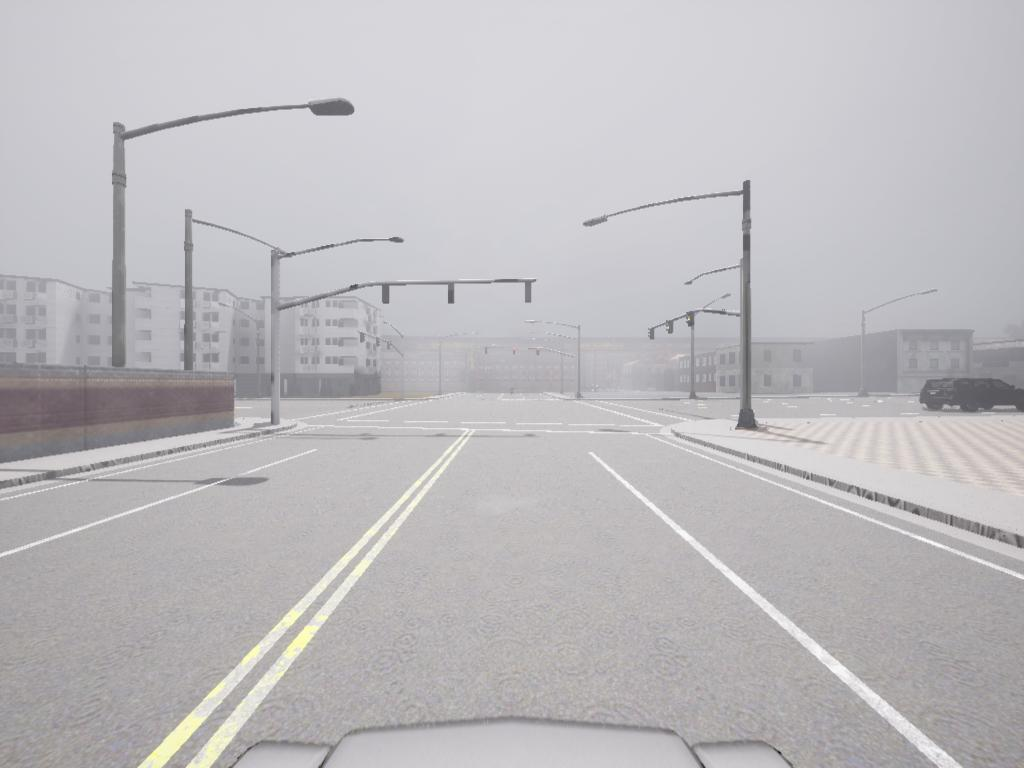traffic_light: (685, 311, 695, 329), (383, 284, 391, 305), (449, 283, 455, 306), (526, 283, 532, 304), (666, 321, 674, 336), (360, 331, 367, 346), (649, 327, 655, 341), (376, 337, 382, 348), (388, 341, 392, 351), (513, 348, 517, 357), (486, 347, 489, 356), (537, 348, 540, 357)
